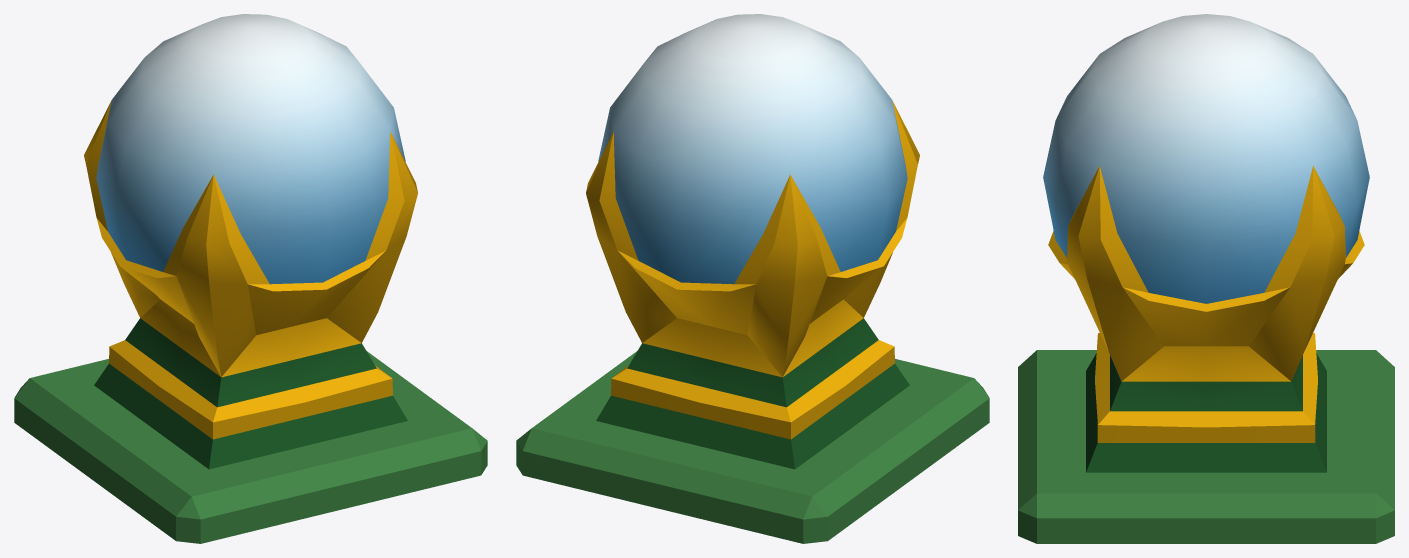
The model's file is m_dec_dung_orb.fbx.
3 renders of one model, left to right at view 1: azimuth 30°, elevation 25°; view 2: azimuth 150°, elevation 25°; view 3: azimuth 270°, elevation 25°, orthographic. The views are drawn at different scales.
Parts seen in each view (by area): view 1: m_dec_dung_orb; view 2: m_dec_dung_orb; view 3: m_dec_dung_orb.
Part boxes in pixels (x1=…): m_dec_dung_orb: x1=14, y1=14, x2=487, y2=543; m_dec_dung_orb: x1=516, y1=14, x2=989, y2=543; m_dec_dung_orb: x1=1018, y1=14, x2=1394, y2=543.
Bounding box in the file's own units: 2 × 2.55 × 2.
